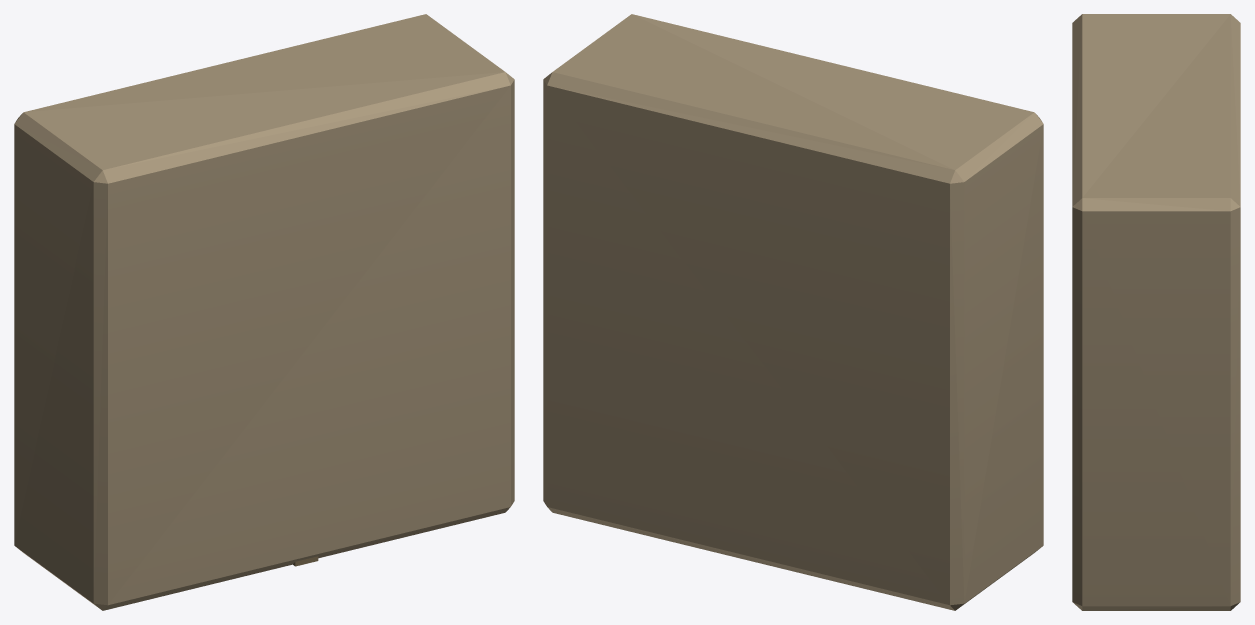
The model's file is cubby_shelving.glb.
3 renders of one model, left to right at view 1: azimuth 30°, elevation 25°; view 2: azimuth 150°, elevation 25°; view 3: azimuth 270°, elevation 25°, orthographic. The views are drawn at different scales.
Visible parts, largest first — view 1: cubby_shelving; view 2: cubby_shelving; view 3: cubby_shelving.
Boxes of the visible parts, x1,y1,x2,y2 form: cubby_shelving: (14,14,514,610); cubby_shelving: (543,14,1043,610); cubby_shelving: (1072,14,1240,610).
Bounding box in the file's own units: 0.92 × 0.92 × 0.34.
